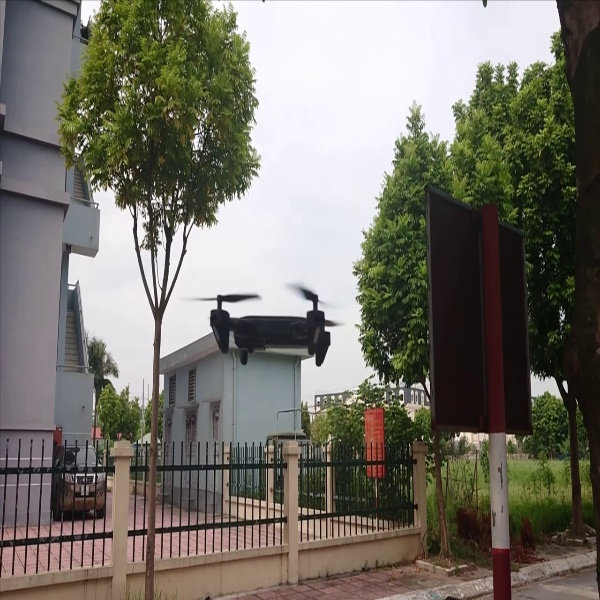drone: (192, 277, 355, 379)
